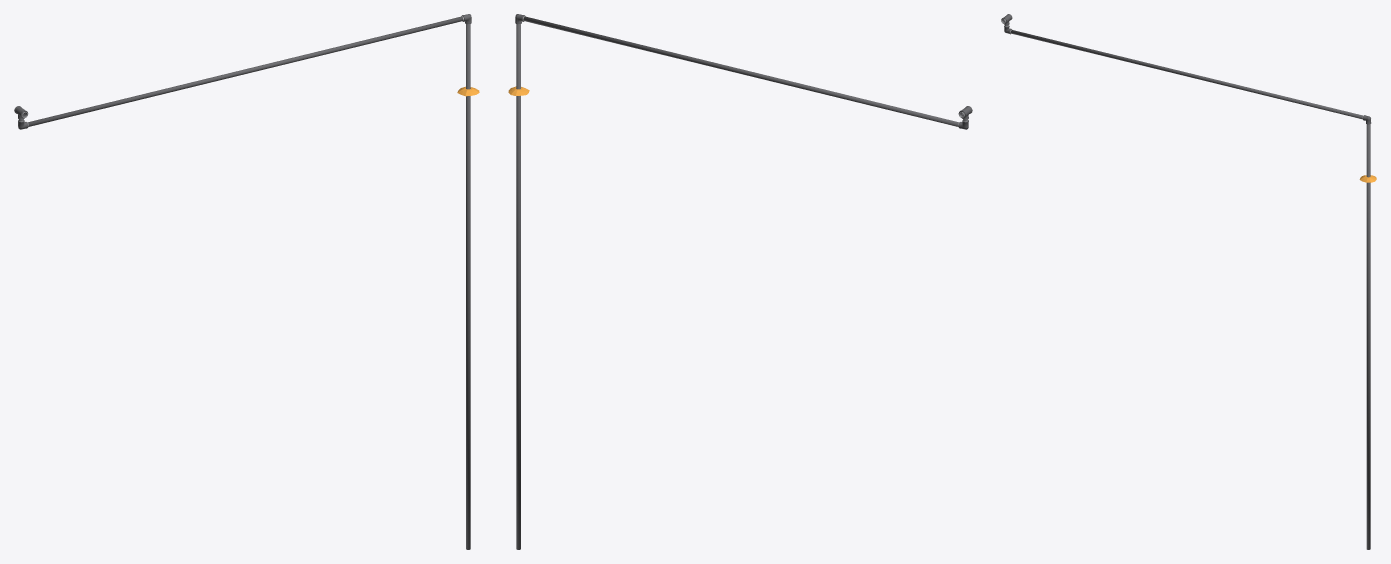
The model's file is pipes_gas__water_heater-closet_gas_tank.glb.
3 renders of one model, left to right at view 1: azimuth 30°, elevation 25°; view 2: azimuth 150°, elevation 25°; view 3: azimuth 330°, elevation 25°, orthographic. The views are drawn at different scales.
Visible parts, largest first — view 1: pipe_gas_drop_wh_closet; view 2: pipe_gas_drop_wh_closet; view 3: pipe_gas_drop_wh_closet.
Boxes of the visible parts, left/top/right/bottom form: pipe_gas_drop_wh_closet: left=19, top=16, right=470, bottom=549; pipe_gas_drop_wh_closet: left=516, top=16, right=967, bottom=549; pipe_gas_drop_wh_closet: left=1005, top=25, right=1370, bottom=549.
Bounding box in the file's own units: 2.38 × 2.71 × 0.0966.
